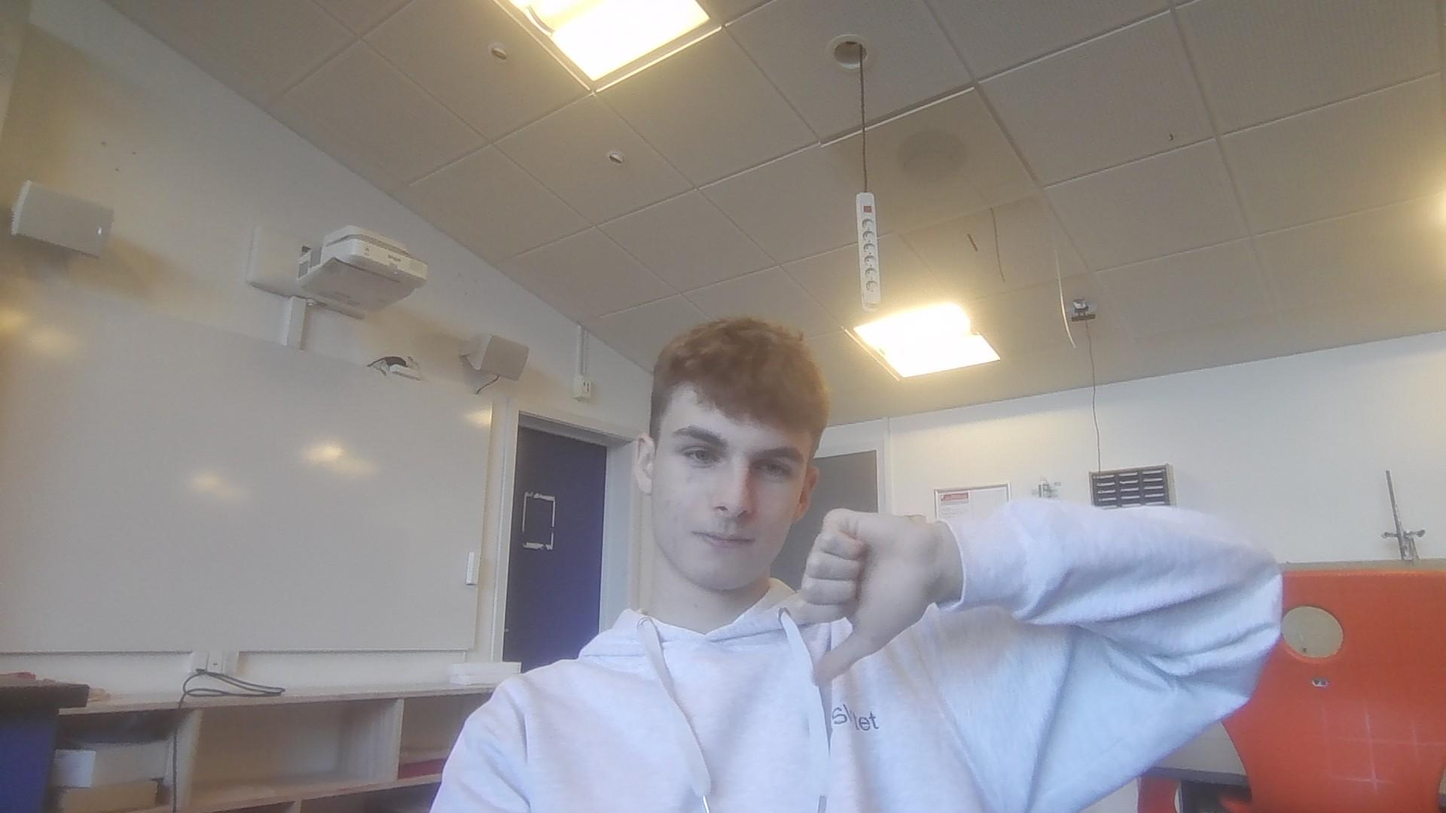thumbs down: (798, 504, 941, 682)
